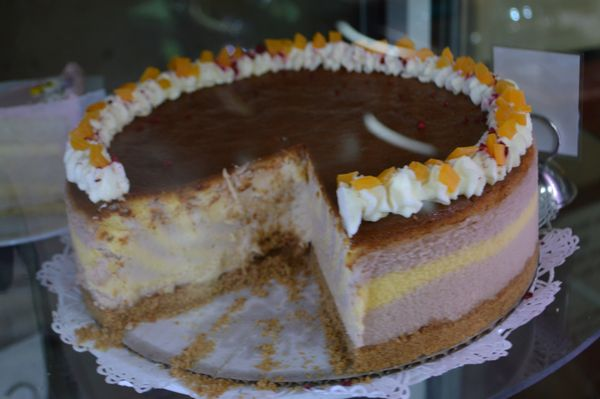sushi: (44, 22, 545, 379), (59, 126, 540, 384)
